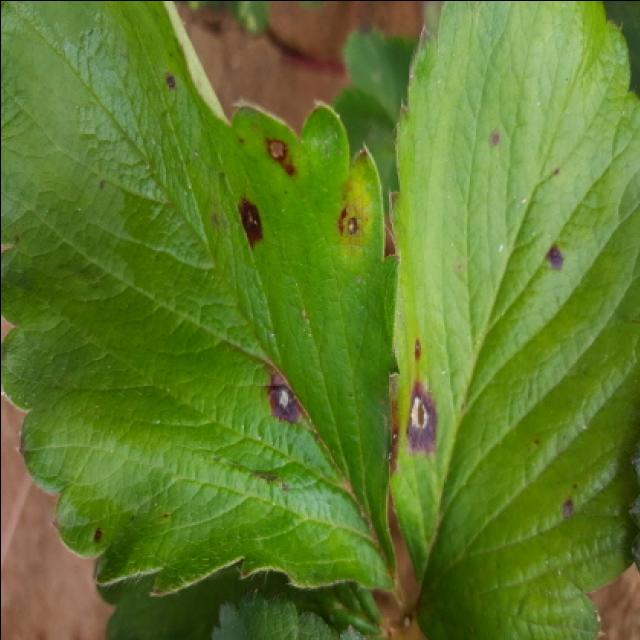Leaf Spot: (2, 2, 400, 595), (387, 2, 640, 640)
